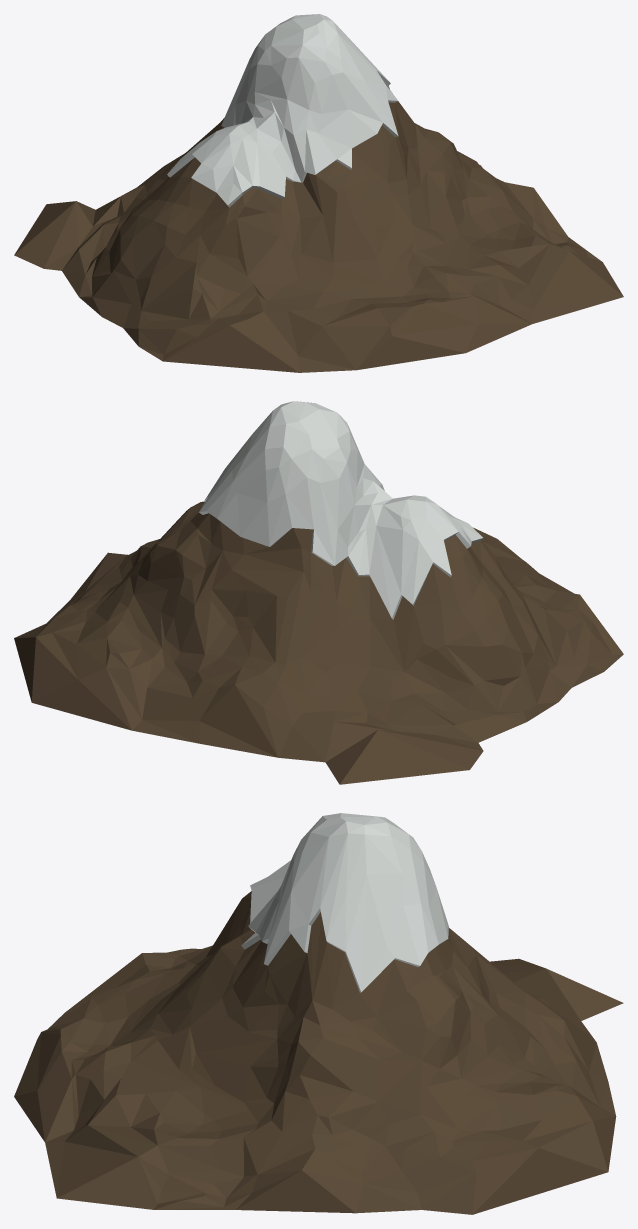
The model's file is SM_Env_HillSnow_02.gltf.
3 renders of one model, top to bottom at view 1: azimuth 30°, elevation 25°; view 2: azimuth 150°, elevation 25°; view 3: azimuth 270°, elevation 25°, orthographic. The views are drawn at different scales.
Parts seen in each view (by area): view 1: SM_Env_HillSnow_02; view 2: SM_Env_HillSnow_02; view 3: SM_Env_HillSnow_02.
Part boxes in pixels (x1,y1,x2,y2): SM_Env_HillSnow_02: (14, 14, 623, 372); SM_Env_HillSnow_02: (14, 401, 623, 784); SM_Env_HillSnow_02: (14, 813, 623, 1214).
Bounding box in the file's own units: 11.14 × 5.57 × 11.21.
1 material, 1 textured.
